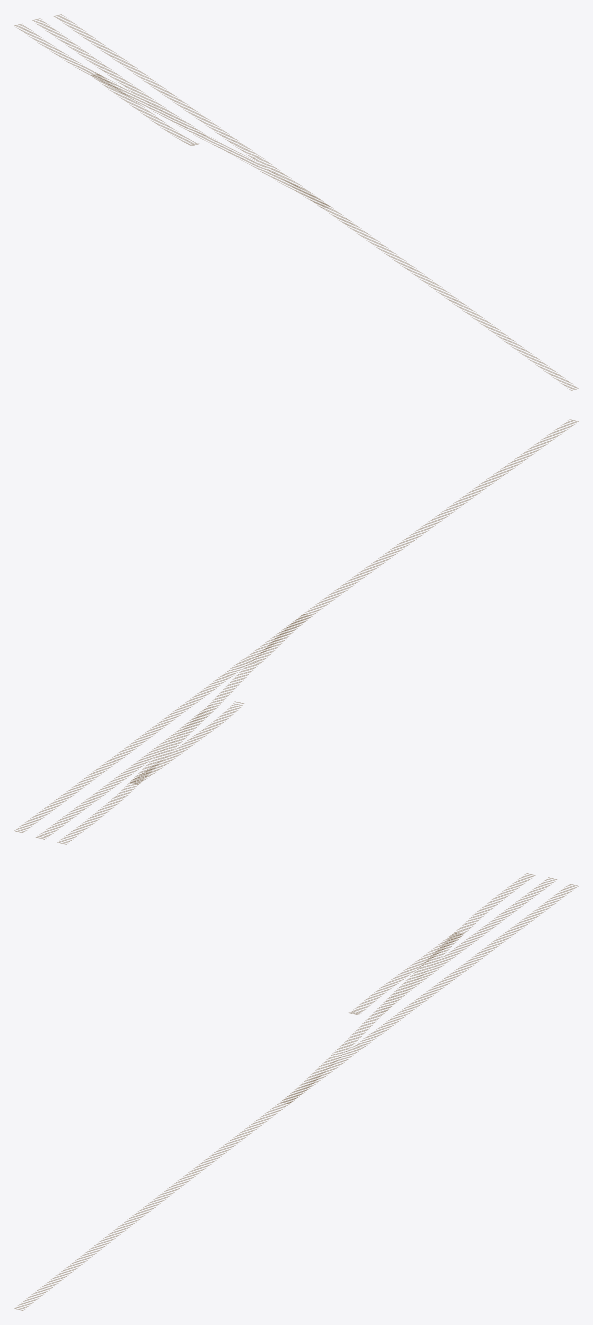
Rendered from c_1626_17825_rail_sleeper.glb.
The picture shows the model from 3 angles, top to bottom: view 1: azimuth 30°, elevation 25°; view 2: azimuth 150°, elevation 25°; view 3: azimuth 330°, elevation 25°; orthographic projection. The views are drawn at different scales.
Parts seen in each view (by area): view 1: geometry_0; view 2: geometry_0; view 3: geometry_0.
Part boxes in pixels (x1,y1,x2,y2): geometry_0: (14, 14, 578, 390); geometry_0: (14, 419, 578, 844); geometry_0: (14, 873, 578, 1310).
Size of the model in its own units: 16.78 by 1.7 by 256.
